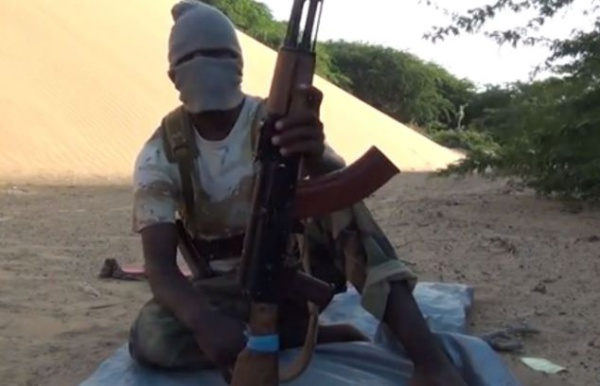ak47: (240, 1, 399, 300)
